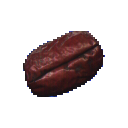ng: (19, 26, 111, 101)
